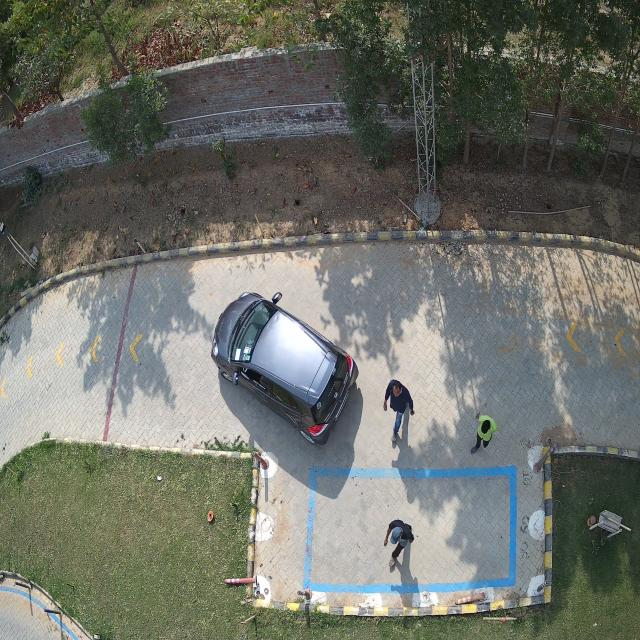car: (212, 293, 359, 445)
